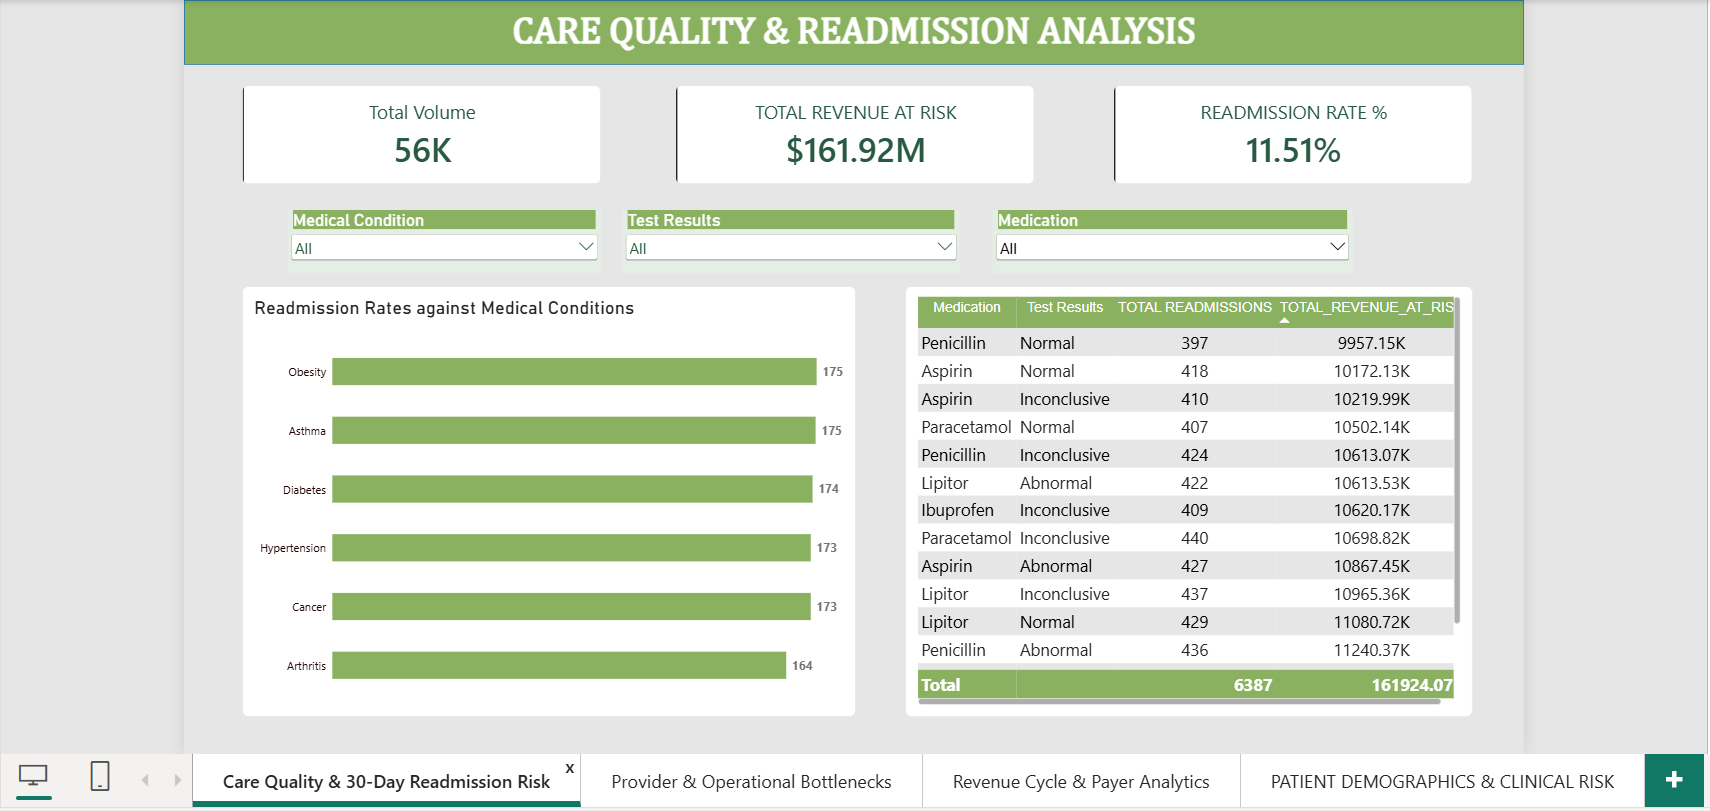

The dashboard page shown, as its layout file describes it:
{"tool":"powerbi","page":{"name":"Care Quality & 30-Day Readmission Risk","canvas":[1920,1080],"ordinal":0},"visuals":[{"type":"shape","box":[0,0,1919.2,92.9],"z":0},{"type":"cardVisual","fields":{"Data":["Sum(VW_CARE_QUALITY.TOTAL_ENCOUNTERS)"]},"box":[83.1,122.2,513.4,141.8],"z":1000},{"type":"cardVisual","fields":{"Data":["Sum(VW_PILLAR2_OPERATIONS.TOTAL_REVENUE_AT_RISK)"]},"box":[704.1,122.2,513.4,141.8],"z":2000},{"type":"cardVisual","fields":{"Data":["VW_CARE_QUALITY.Care Quality Readmission Rate %"]},"box":[1332.4,122.2,513.4,141.8],"z":3000},{"type":"barChart","title":"Readmission Rates against Medical Conditions","fields":{"Y":["Sum(VW_CARE_QUALITY.READMISSION_RATE_PCT)"],"Category":["VW_CARE_QUALITY.Medical Condition"]},"box":[83.1,410.7,877.7,616.1],"z":4000},{"type":"tableEx","fields":{"Values":["VW_CARE_QUALITY.Medication","VW_CARE_QUALITY.Test Results","Sum(VW_CARE_QUALITY.TOTAL_READMISSIONS)","Sum(VW_CARE_QUALITY.TOTAL_REVENUE_AT_RISK)"]},"box":[1034.2,410.7,811.7,616.1],"z":5000},{"type":"slicer","fields":{"Values":["VW_CARE_QUALITY.Medical Condition"]},"box":[148.3,300.8,449.1,90.2],"z":6000},{"type":"slicer","fields":{"Values":["VW_CARE_QUALITY.Test Results"]},"box":[628.3,300.7,484.1,90.5],"z":7000},{"type":"slicer","fields":{"Values":["VW_CARE_QUALITY.Medication"]},"box":[1158.1,300.8,515.9,90.5],"z":8000}]}

Visuals, with their boxes on the page's 1920x1080 design canvas (x1, y1, x2, y2). These are canvas units, not pixel positions in the 1710x811 screenshot, which may show the page scaled, cropped or inside an application window:
shape: region(0, 0, 1919, 93)
cardVisual - Sum(VW_CARE_QUALITY.TOTAL_ENCOUNTERS): region(83, 122, 596, 264)
cardVisual - Sum(VW_PILLAR2_OPERATIONS.TOTAL_REVENUE_AT_RISK): region(704, 122, 1218, 264)
cardVisual - VW_CARE_QUALITY.Care Quality Readmission Rate %: region(1332, 122, 1846, 264)
"Readmission Rates against Medical Conditions" barChart: region(83, 411, 961, 1027)
tableEx - VW_CARE_QUALITY.Medication x VW_CARE_QUALITY.Test Results: region(1034, 411, 1846, 1027)
slicer - VW_CARE_QUALITY.Medical Condition: region(148, 301, 597, 391)
slicer - VW_CARE_QUALITY.Test Results: region(628, 301, 1112, 391)
slicer - VW_CARE_QUALITY.Medication: region(1158, 301, 1674, 391)
